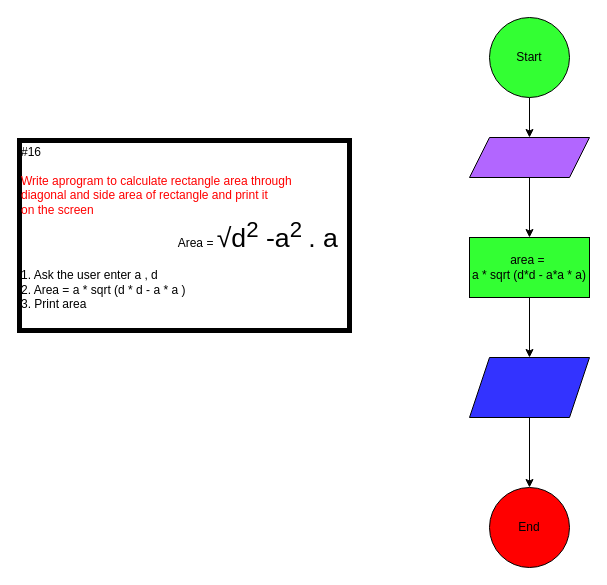
Image size: 607x585. Some labels were removed from this diagram. The shapes that lost their labels are listed below. From the top down, each one's box as (x1, y1, x2, y2) in pixels, then its label:
(468, 136, 590, 178): Read a Read b
(468, 356, 590, 418): Print area
